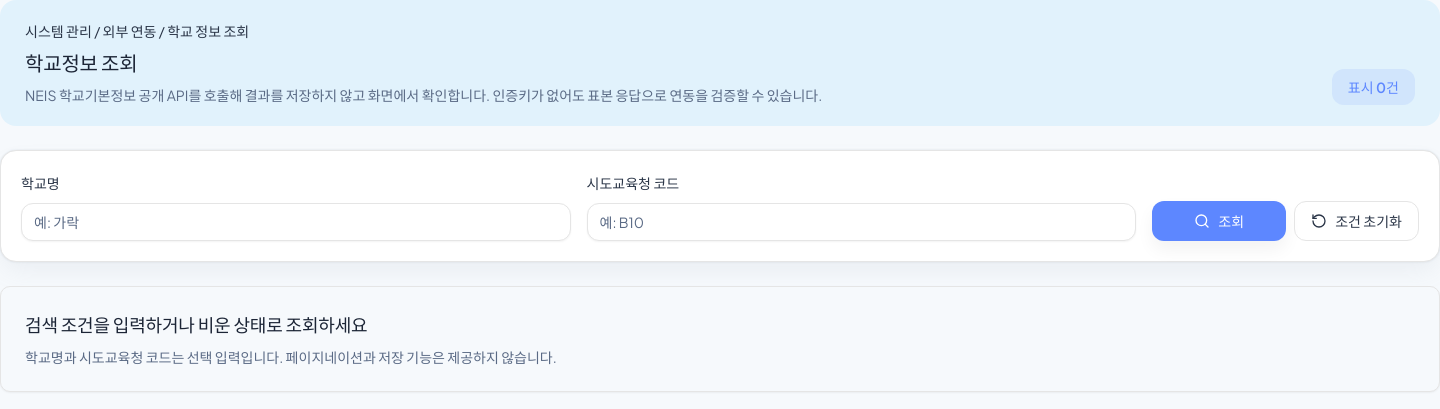
Scenario: SCR-SCHOOL-INFO-LOOKUP › renders successful result table and displayed row count from actual rows
Type "가락" into the field labelled "학교명" at (296, 222), box [21,203,571,241]
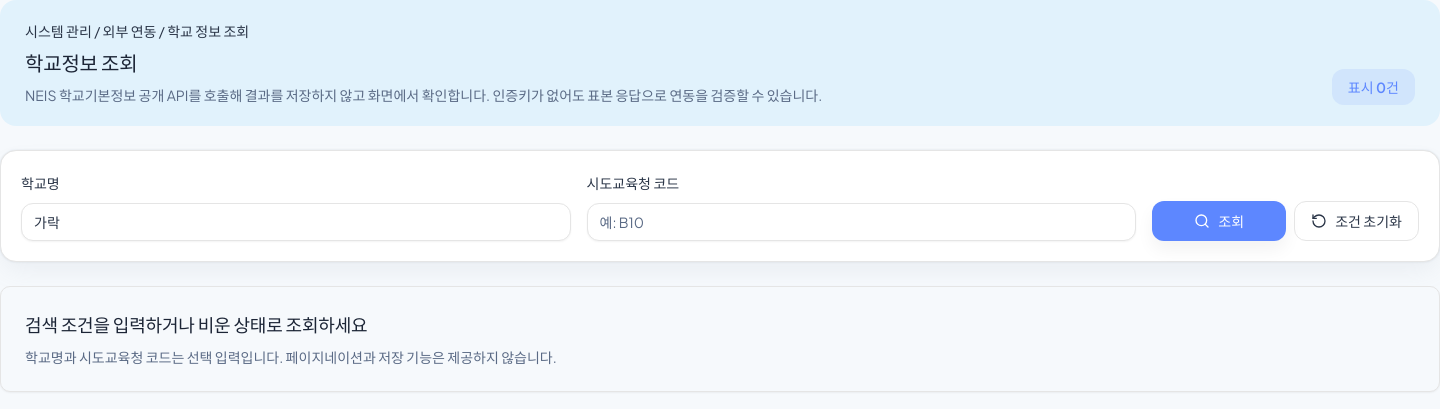
Click the button with test id "school-info-search-button" at (1219, 221), box [1152,201,1286,241]
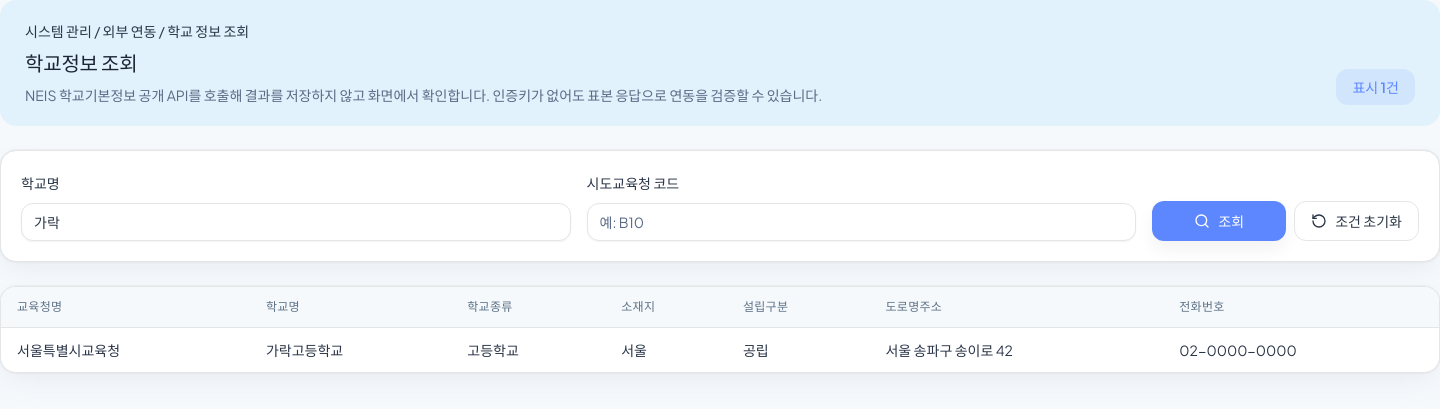
Check: the text "가락고등학교" is shown, box [250,328,451,372]
Check: the text "표시 1건" is shown, box [1336,69,1415,105]
Check: the column heading "교육청명" is shown, box [1,287,250,328]
